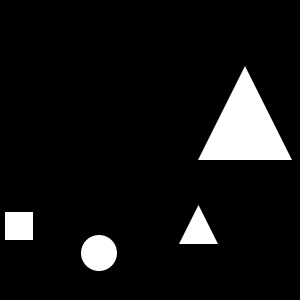circle: (5, 212, 33, 240)
rectangle: (81, 235, 117, 271)
triangle: (198, 66, 292, 160), (179, 205, 218, 244)
